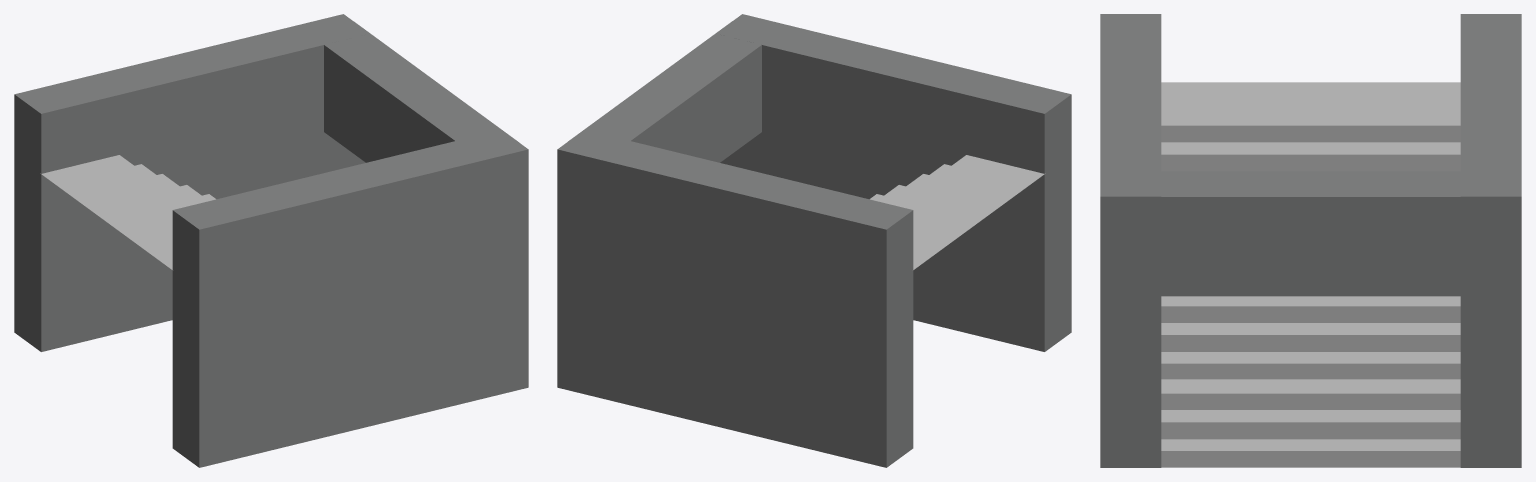
File: subway_mesh.FBX
3 views of the same model, side by side, from view 1: azimuth 30°, elevation 25°; view 2: azimuth 150°, elevation 25°; view 3: azimuth 270°, elevation 25° (orthographic). The views are drawn at different scales.
Parts seen in each view (by area): view 1: subway_mesh; view 2: subway_mesh; view 3: subway_mesh.
Part boxes in pixels (x1=…): subway_mesh: x1=14, y1=14, x2=528, y2=467; subway_mesh: x1=557, y1=14, x2=1071, y2=467; subway_mesh: x1=1100, y1=14, x2=1521, y2=467.
Size of the model in its own units: 7.17 by 6.97 by 4.95.
Materials: 1 (1 with a texture image).
